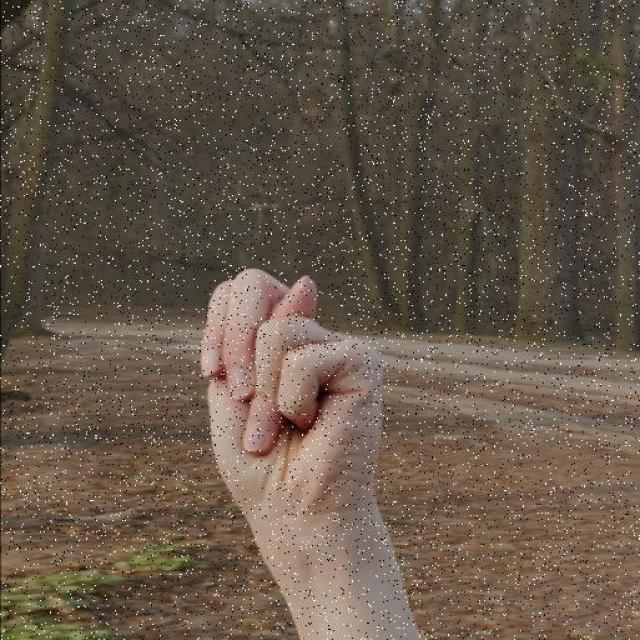N: (192, 267, 394, 519)
